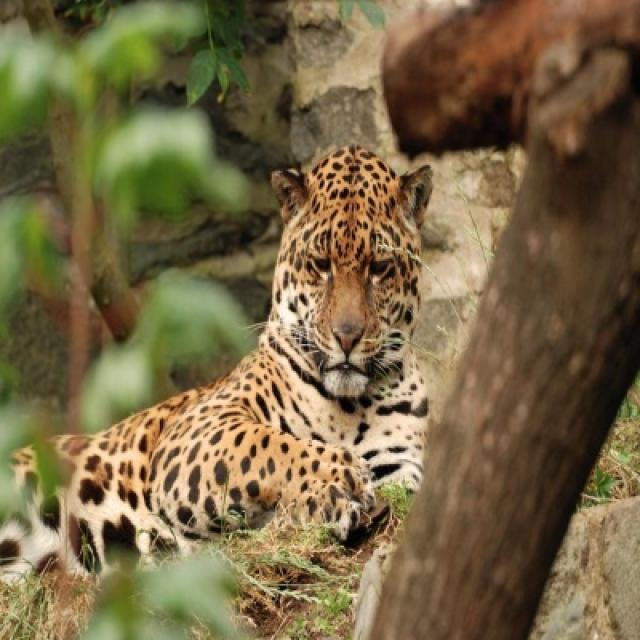Jaguar: (0, 147, 434, 589)
